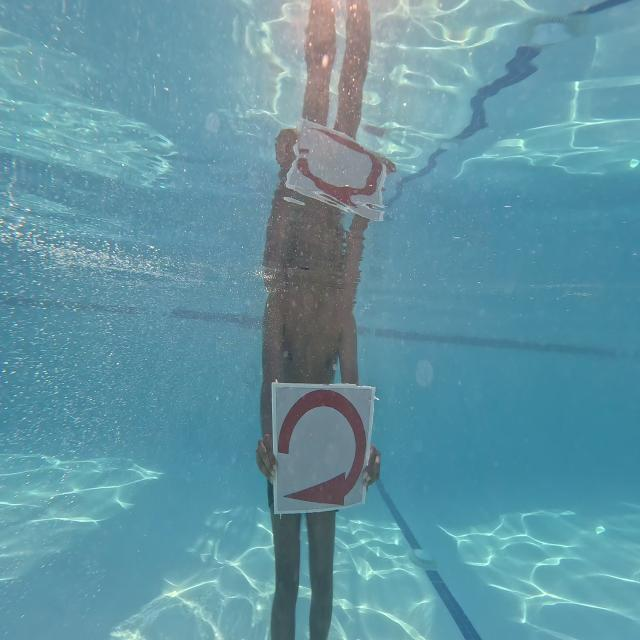red_side: (273, 386, 373, 508)
